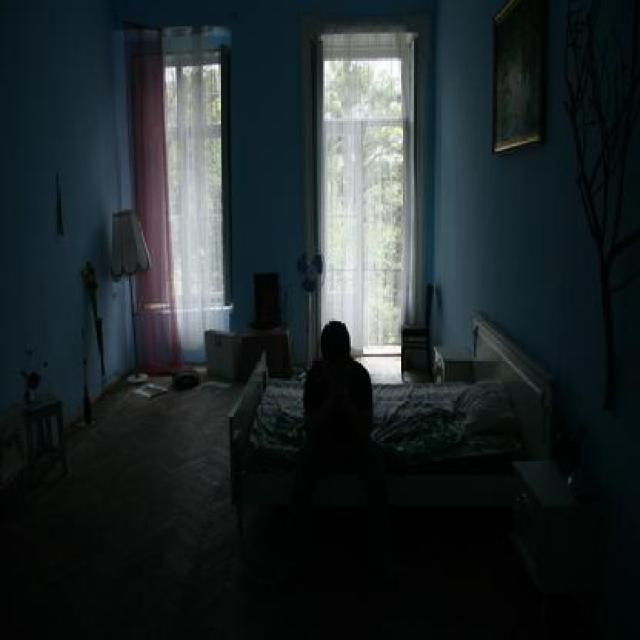Person: (302, 316, 383, 493)
